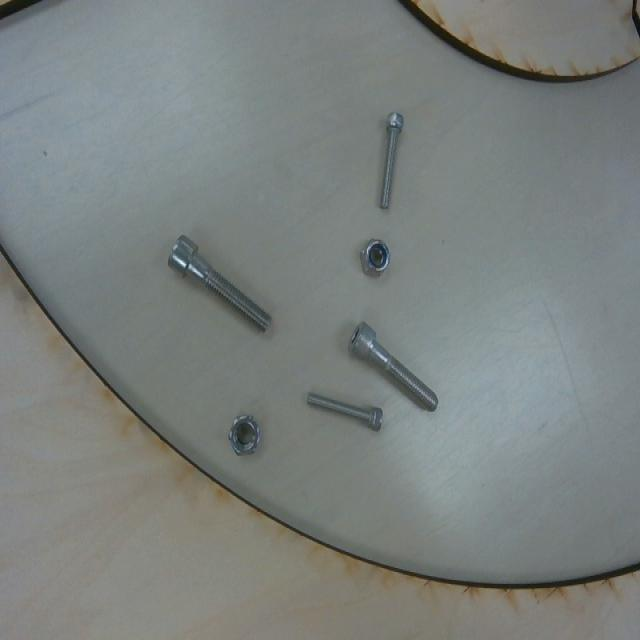Big Bolt: (168, 228, 278, 336), (346, 313, 440, 411)
Metal Nut: (228, 409, 263, 459), (358, 237, 394, 277)
Small Bolt: (303, 388, 388, 437), (379, 108, 405, 213)
